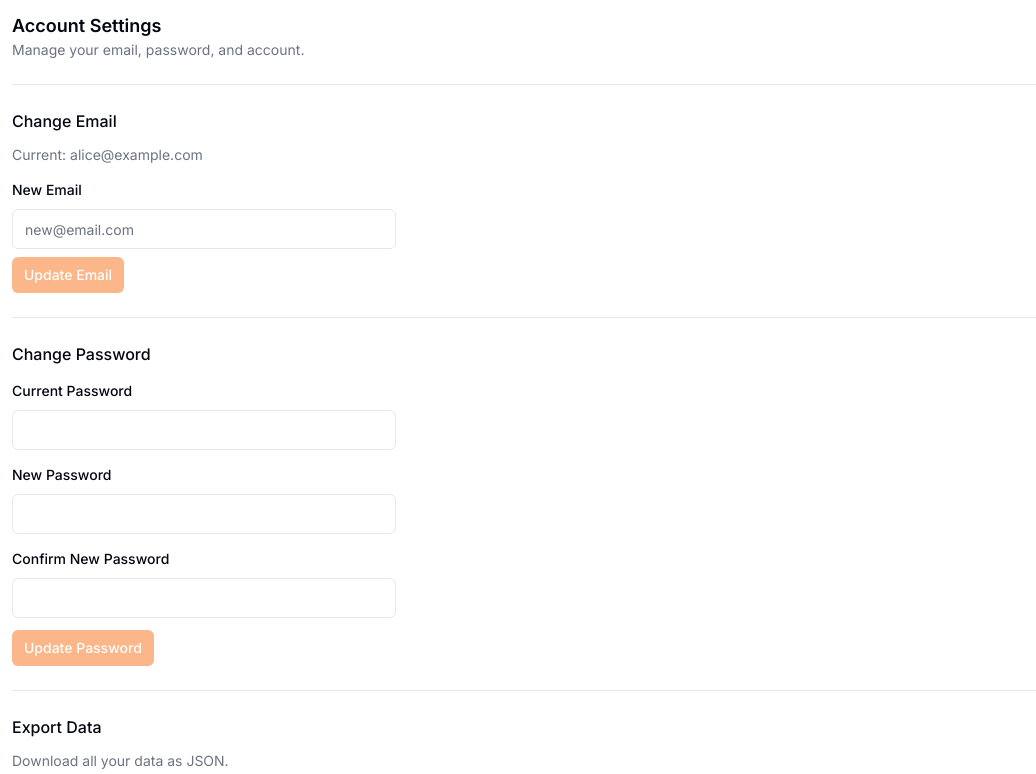
Test: AccountSettings › shows password mismatch message when passwords differ
Type "password123" into the password field labelled "New Password" at {"x": 204, "y": 514}, box [12, 494, 396, 534]
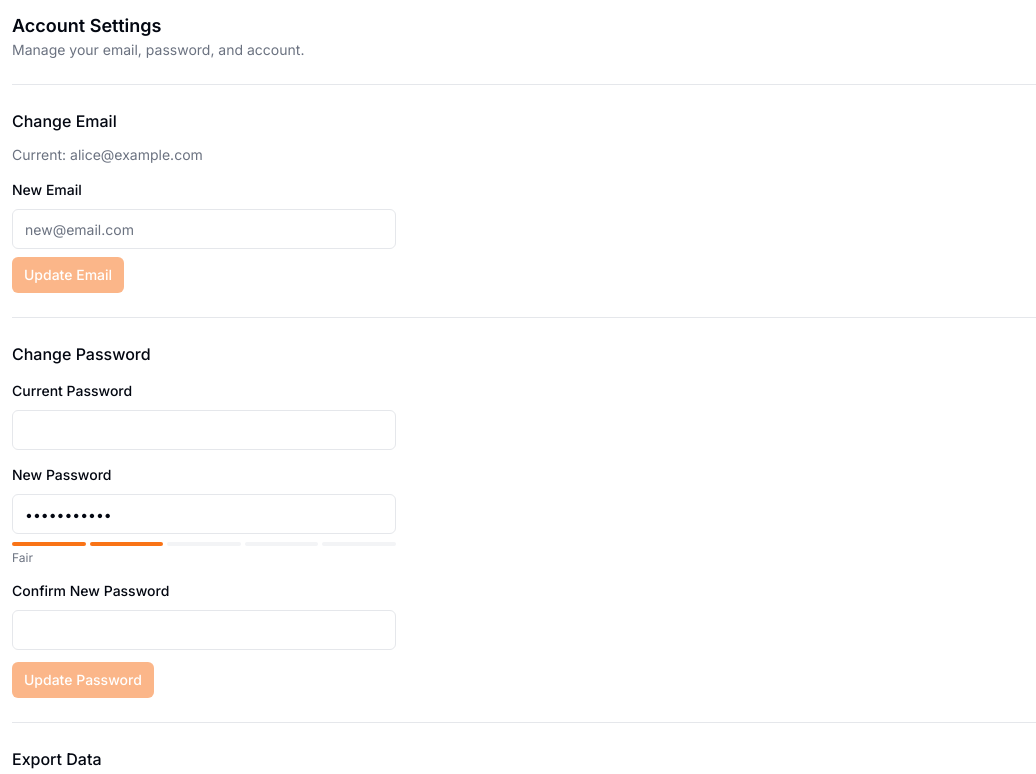
Type "different456" into the password field labelled "Confirm New Password" at {"x": 204, "y": 630}, box [12, 610, 396, 650]
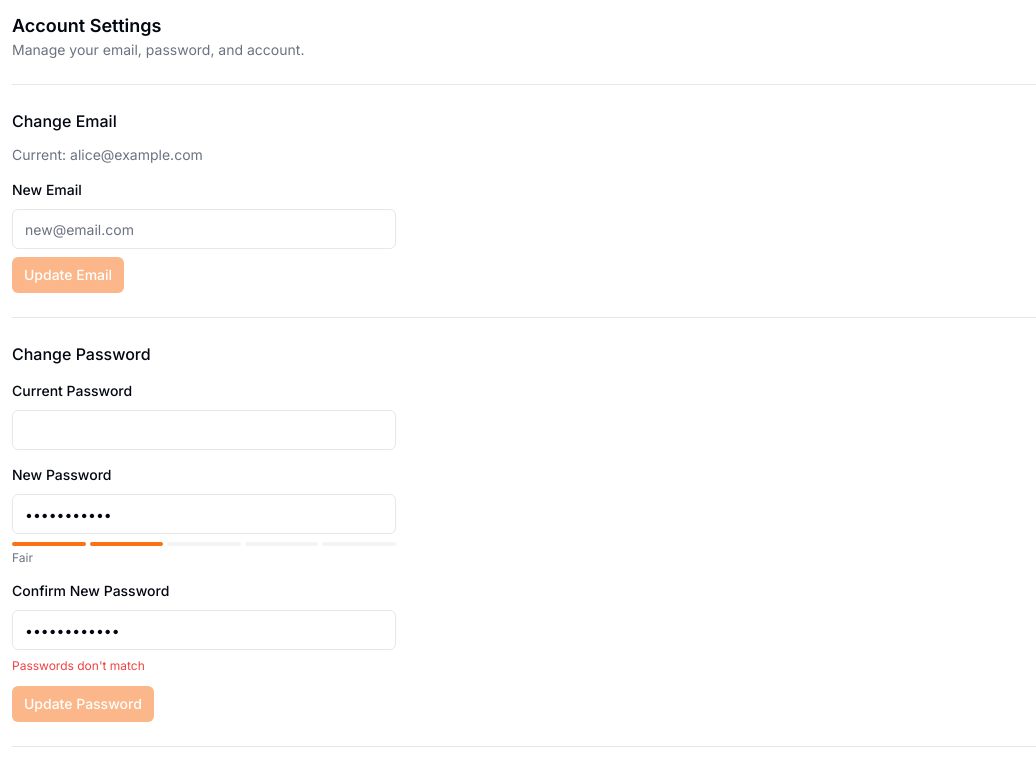
Check: the text "Passwords don't match" is shown, box [12, 658, 145, 673]
